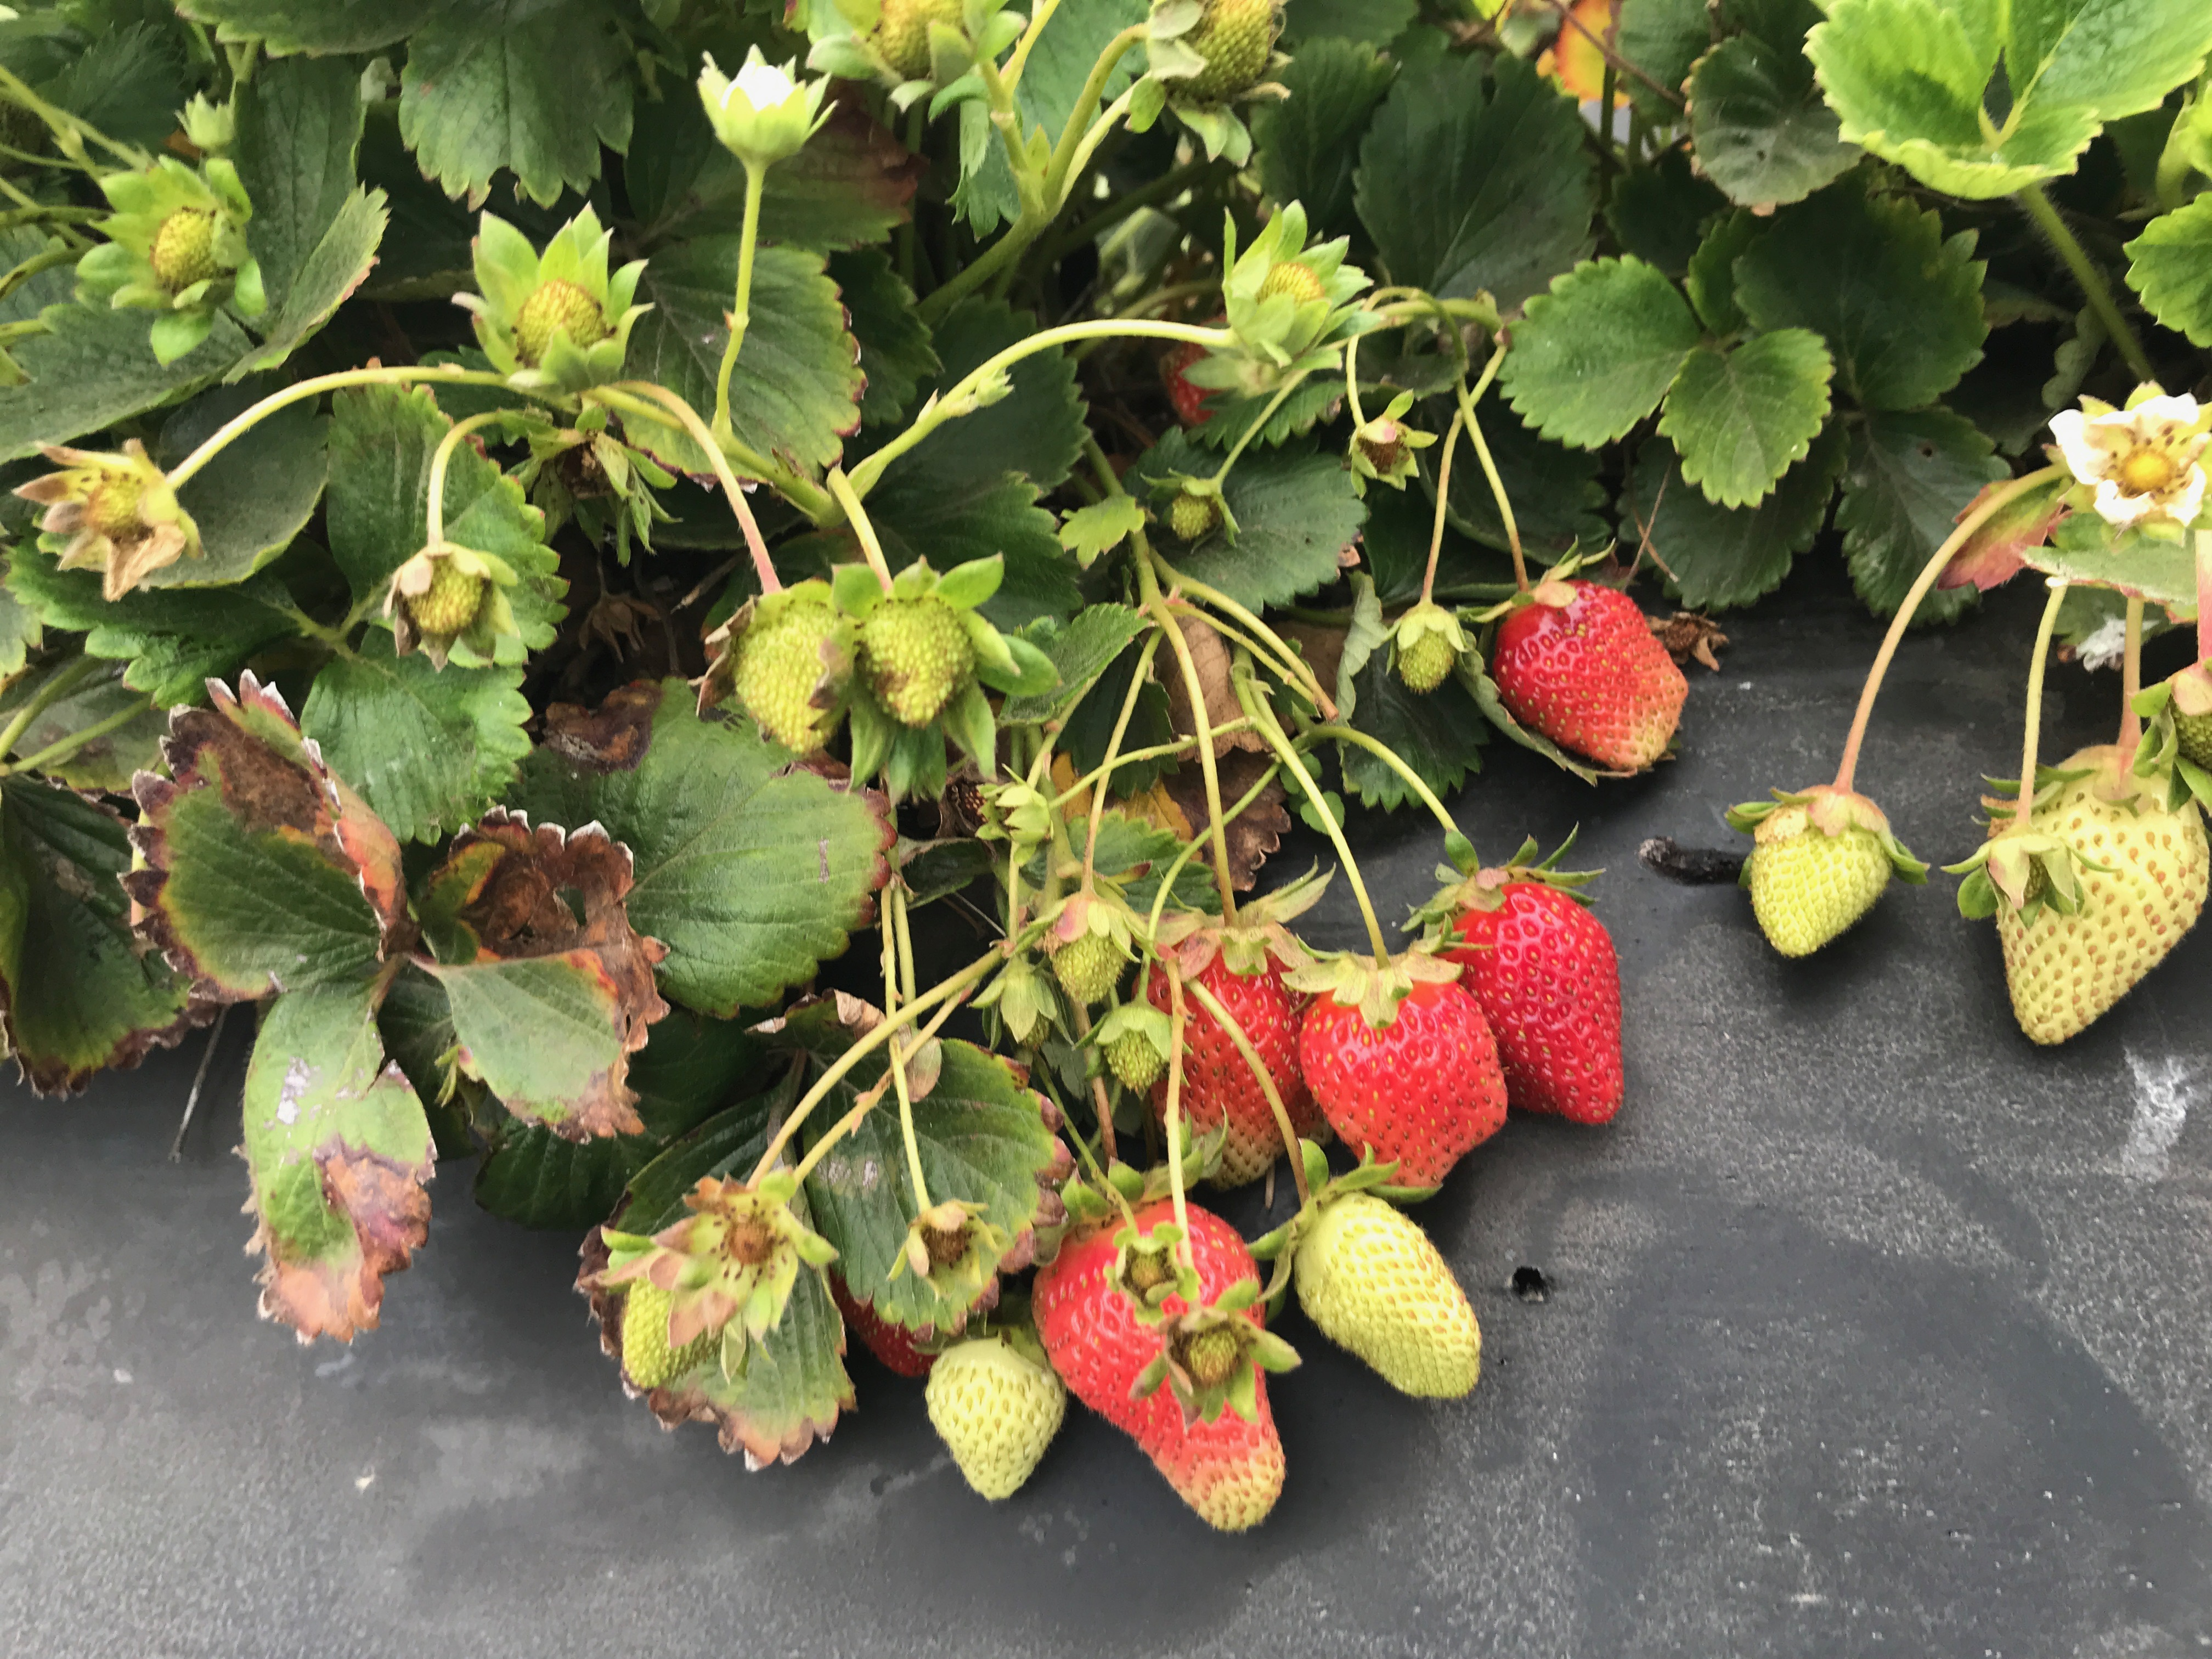ripe_strawberry: (1029, 1183, 1296, 1539), (1129, 910, 1341, 1194), (1428, 859, 1635, 1136), (1291, 953, 1519, 1199), (1487, 568, 1698, 788), (1169, 300, 1231, 429)
unripe_strawberry: (1986, 730, 2212, 1054), (1280, 1185, 1494, 1406), (1738, 769, 1905, 972), (921, 1314, 1069, 1514), (732, 575, 862, 755), (608, 1237, 749, 1401), (857, 579, 979, 741), (1146, 0, 1291, 115), (500, 253, 624, 385), (148, 174, 249, 314), (387, 537, 495, 647), (871, 0, 986, 94), (1392, 599, 1463, 697)
